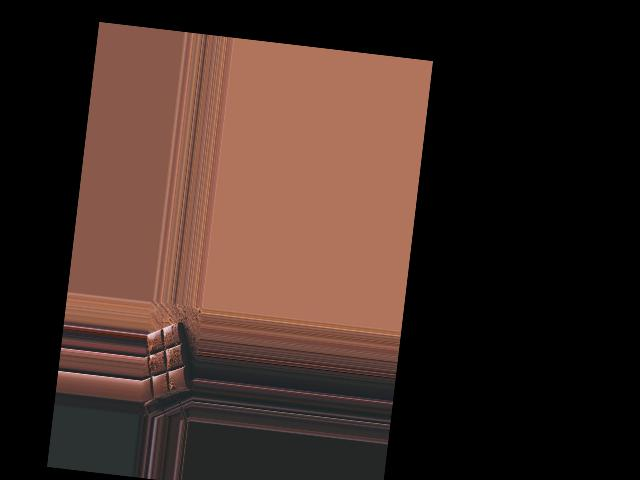chocolate: (140, 314, 197, 408)
